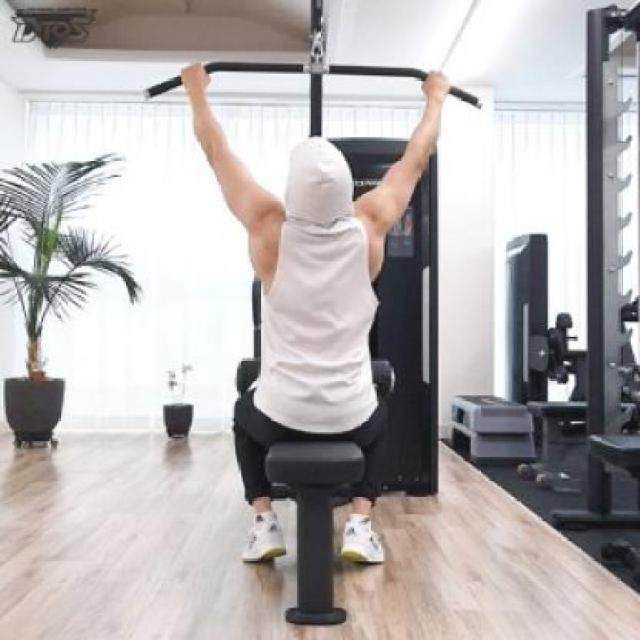Lat Pull Down: (114, 0, 534, 628)
